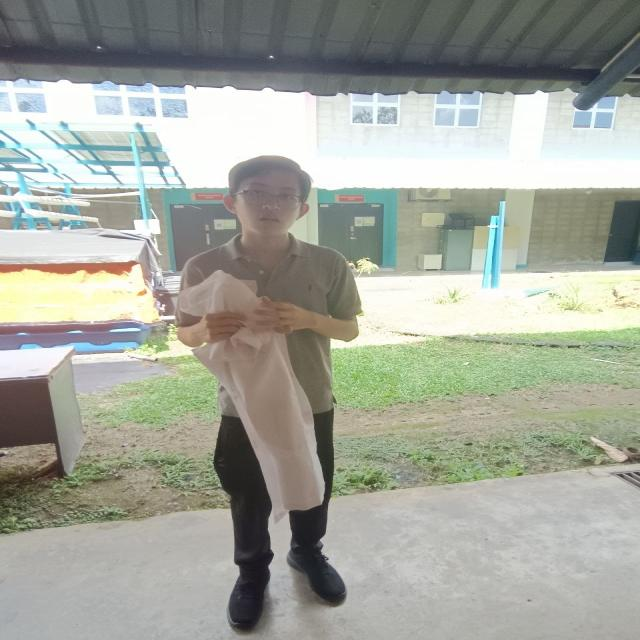person_without_labcoat: (176, 156, 360, 629)
